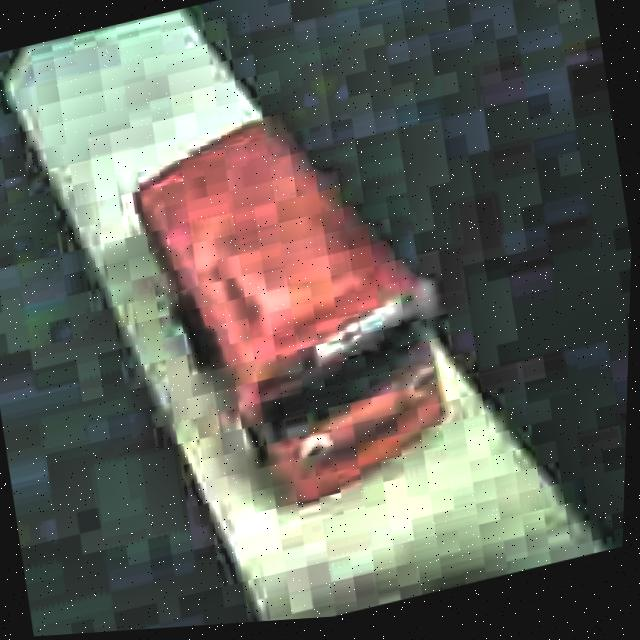bus: (113, 80, 469, 543)
